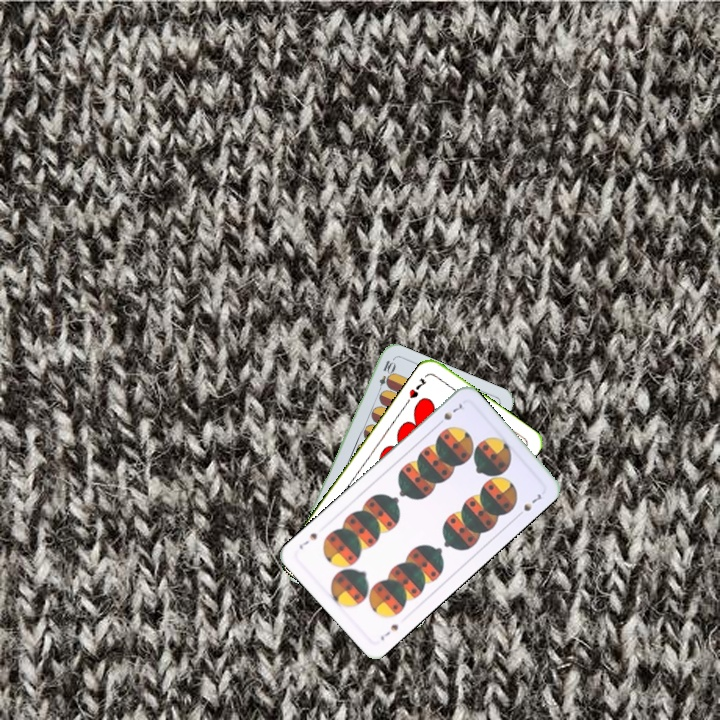E10: (374, 356, 397, 396)
H7: (405, 374, 429, 401)
S7: (433, 400, 465, 429), (376, 620, 401, 643)
